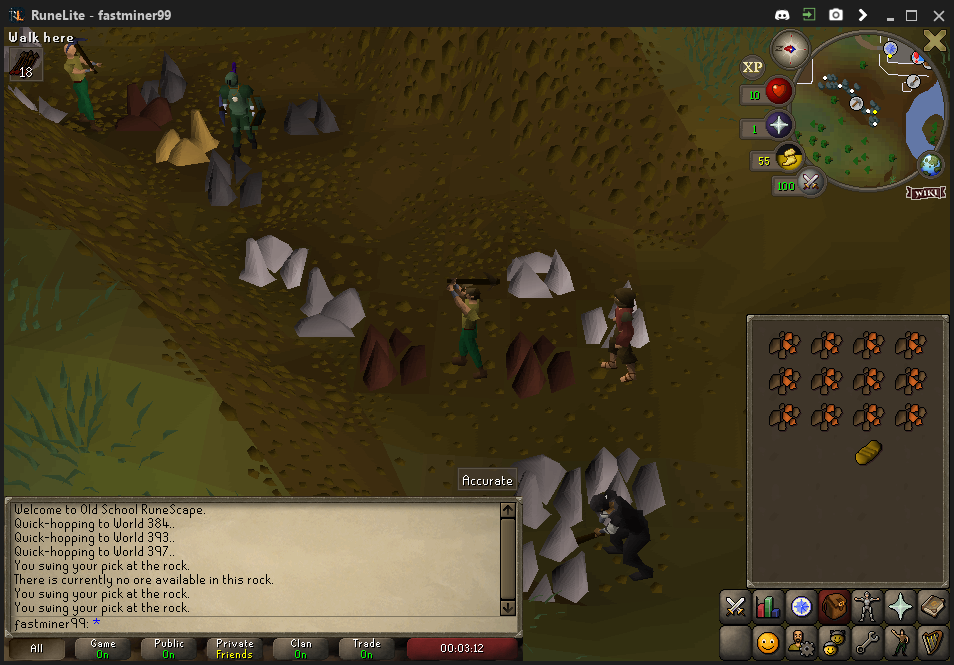ore: (504, 326, 575, 402), (359, 321, 434, 388)
